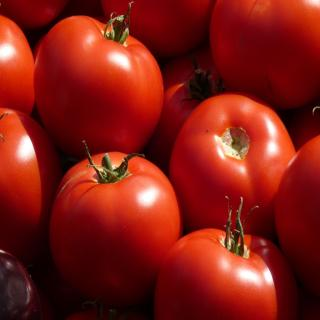tomato: (50, 139, 184, 305), (31, 0, 166, 160), (168, 90, 297, 242), (153, 194, 299, 320), (210, 0, 320, 109), (0, 106, 62, 258), (157, 49, 228, 164), (274, 133, 320, 292), (100, 0, 213, 59), (0, 13, 36, 115)
